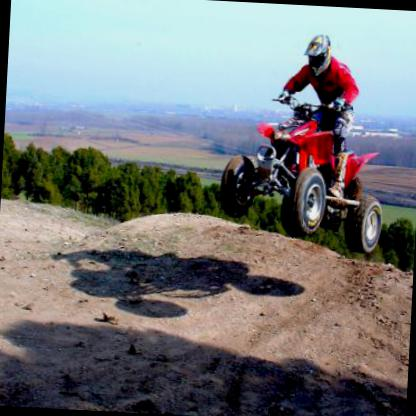motorcycle: (226, 96, 384, 234)
